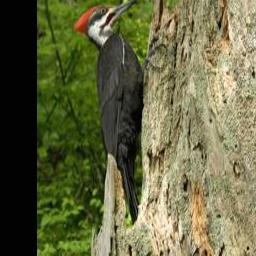Woodpecker: (72, 0, 167, 227)
